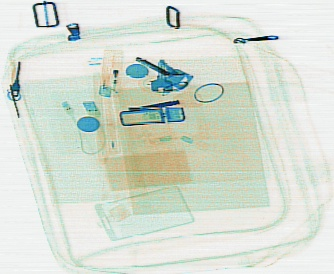lighter: (96, 46, 121, 97)
